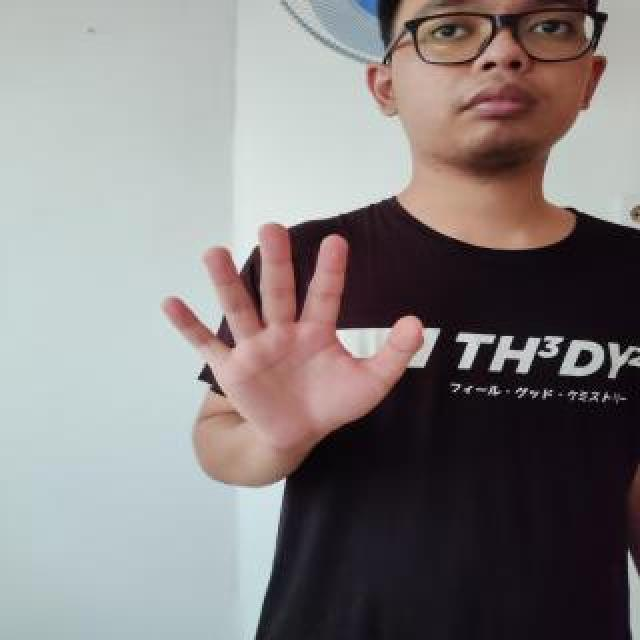hand: (158, 218, 428, 456)
